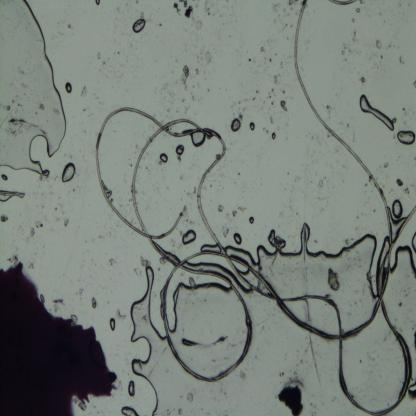Air bubble: (0, 0, 67, 177), (245, 218, 378, 300), (126, 259, 162, 416), (360, 94, 394, 133), (390, 244, 416, 282), (224, 244, 256, 265), (376, 234, 390, 268), (0, 189, 27, 204), (396, 130, 415, 146), (132, 17, 148, 35), (190, 130, 206, 148), (391, 198, 403, 221), (181, 228, 197, 245), (62, 162, 75, 182), (201, 243, 221, 255), (121, 405, 141, 416), (230, 117, 242, 133), (126, 379, 136, 398), (408, 379, 416, 397), (108, 316, 117, 332), (233, 232, 242, 245), (175, 144, 185, 155), (411, 230, 416, 252), (64, 82, 73, 94), (160, 152, 168, 162), (248, 215, 255, 224), (249, 120, 255, 130), (1, 173, 8, 181), (271, 130, 276, 140), (94, 0, 100, 6)
Background material: (278, 370, 306, 416), (307, 333, 321, 385), (288, 174, 300, 214), (300, 130, 325, 148), (341, 29, 357, 57), (326, 265, 341, 292), (30, 220, 43, 235), (180, 66, 190, 84), (203, 0, 212, 18), (139, 254, 151, 267), (53, 297, 65, 309), (202, 50, 213, 63), (188, 89, 198, 103), (304, 341, 314, 354), (310, 401, 318, 416), (219, 227, 229, 239), (184, 5, 192, 19), (195, 20, 203, 34), (366, 350, 376, 361), (272, 74, 282, 85), (0, 212, 9, 224), (411, 330, 416, 351), (133, 266, 142, 277), (91, 295, 98, 309), (398, 54, 406, 66), (280, 100, 288, 112), (80, 85, 88, 97), (26, 261, 35, 270), (396, 178, 404, 188), (404, 186, 412, 196), (217, 202, 225, 212), (186, 391, 193, 402), (78, 285, 85, 296), (238, 372, 247, 380), (344, 237, 352, 246), (236, 206, 246, 213), (268, 114, 274, 125), (174, 8, 182, 16), (401, 107, 408, 116), (382, 159, 388, 169), (397, 299, 403, 309), (318, 178, 324, 188), (183, 105, 189, 115), (63, 218, 70, 226), (360, 76, 366, 85), (289, 0, 297, 6), (376, 40, 382, 48), (230, 210, 238, 216), (97, 51, 102, 60), (326, 104, 330, 115), (262, 127, 268, 134), (331, 396, 337, 403), (260, 46, 266, 53), (177, 408, 182, 416), (66, 22, 71, 30), (298, 359, 304, 365), (241, 107, 247, 113), (352, 130, 355, 142), (215, 153, 221, 159), (268, 57, 274, 63), (238, 113, 243, 120), (71, 187, 76, 194), (280, 62, 284, 70), (351, 16, 355, 24), (166, 408, 170, 416), (284, 353, 288, 361), (359, 358, 363, 366), (140, 11, 144, 19), (279, 372, 284, 378), (379, 54, 384, 60), (355, 7, 360, 13), (101, 61, 107, 66), (346, 122, 350, 129), (195, 67, 198, 76), (247, 57, 252, 62), (284, 22, 288, 28), (236, 172, 240, 178), (413, 79, 416, 87), (238, 99, 242, 104), (256, 89, 260, 94), (251, 97, 256, 101), (254, 355, 258, 360), (364, 182, 368, 187), (209, 183, 213, 188), (295, 10, 298, 16), (268, 92, 271, 98), (286, 172, 290, 176), (270, 88, 274, 92), (360, 0, 364, 4), (165, 369, 169, 373), (282, 90, 286, 94), (314, 240, 318, 244), (182, 100, 186, 104), (116, 51, 120, 55), (135, 0, 139, 4), (289, 24, 292, 29), (271, 100, 273, 106), (180, 395, 183, 399), (289, 7, 292, 11), (387, 402, 389, 406), (232, 113, 236, 115), (160, 23, 162, 27), (287, 37, 289, 40)
Diatom: (173, 2, 179, 9), (183, 1, 188, 8), (178, 0, 184, 3)
Microfibre: (95, 0, 416, 416), (327, 0, 356, 7)
Pen: (0, 261, 119, 416)
